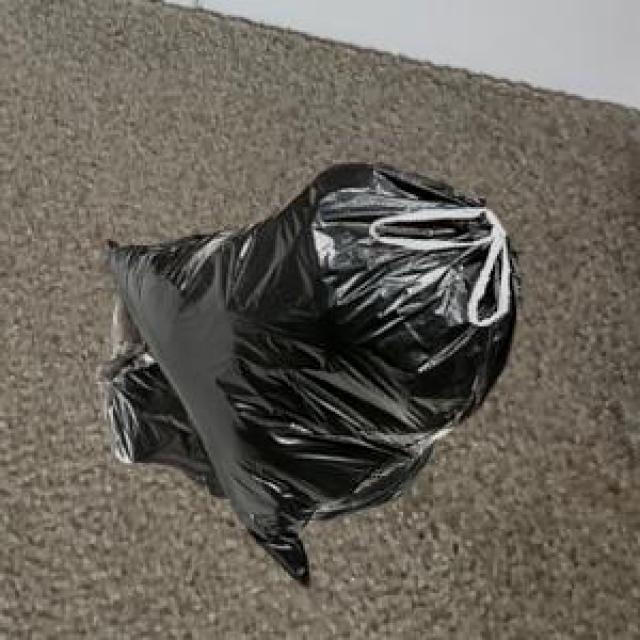Trashbag: (101, 155, 524, 598)
